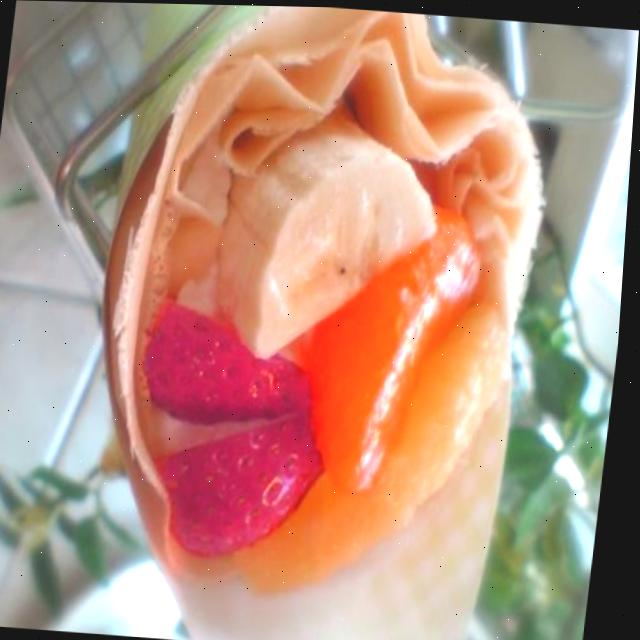面条主食: (2, 1, 625, 640)
